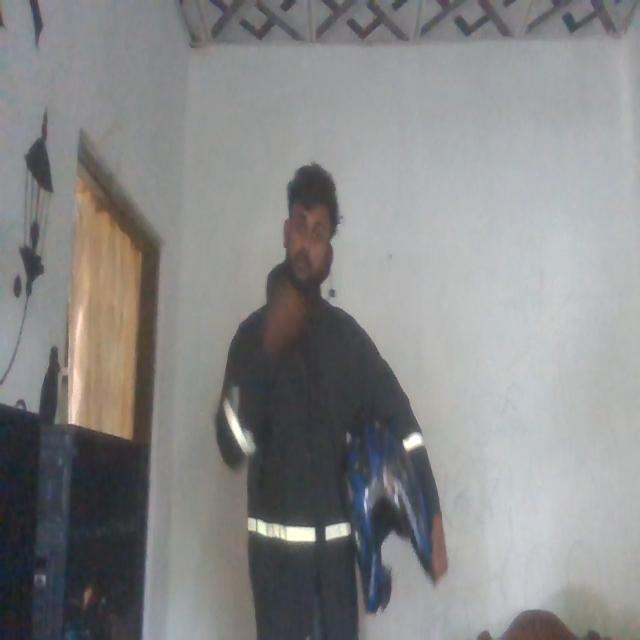Jacket_Wearer: (220, 287, 408, 640)
Person: (205, 137, 423, 640)
